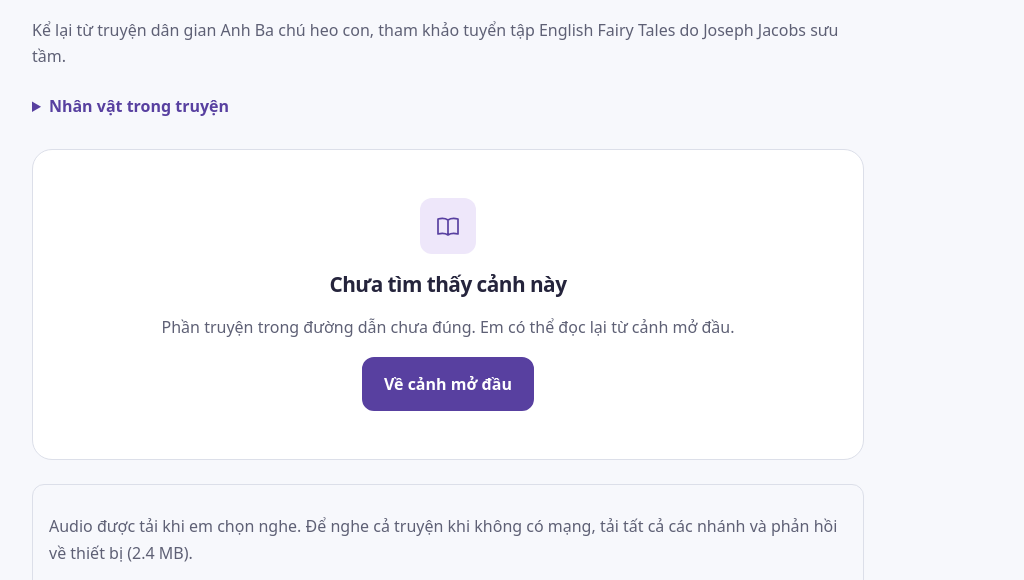
Test: story library and reading routes › recovers from an unknown scene without treating the whole story as missing
(page scrolled)
Expected: the heading "Chưa tìm thấy cảnh này" is shown, [330,270,566,298]
Click the link "Về cảnh mở đầu" at point(448, 384), box [362,357,534,411]
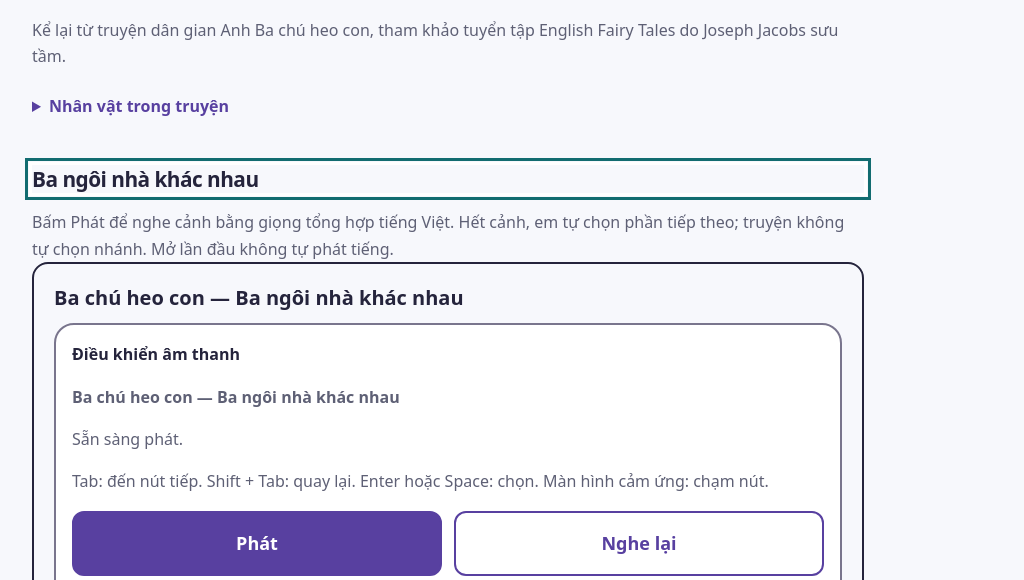
Expected: the heading "Ba ngôi nhà khác nhau" is shown, [32,165,864,194]
